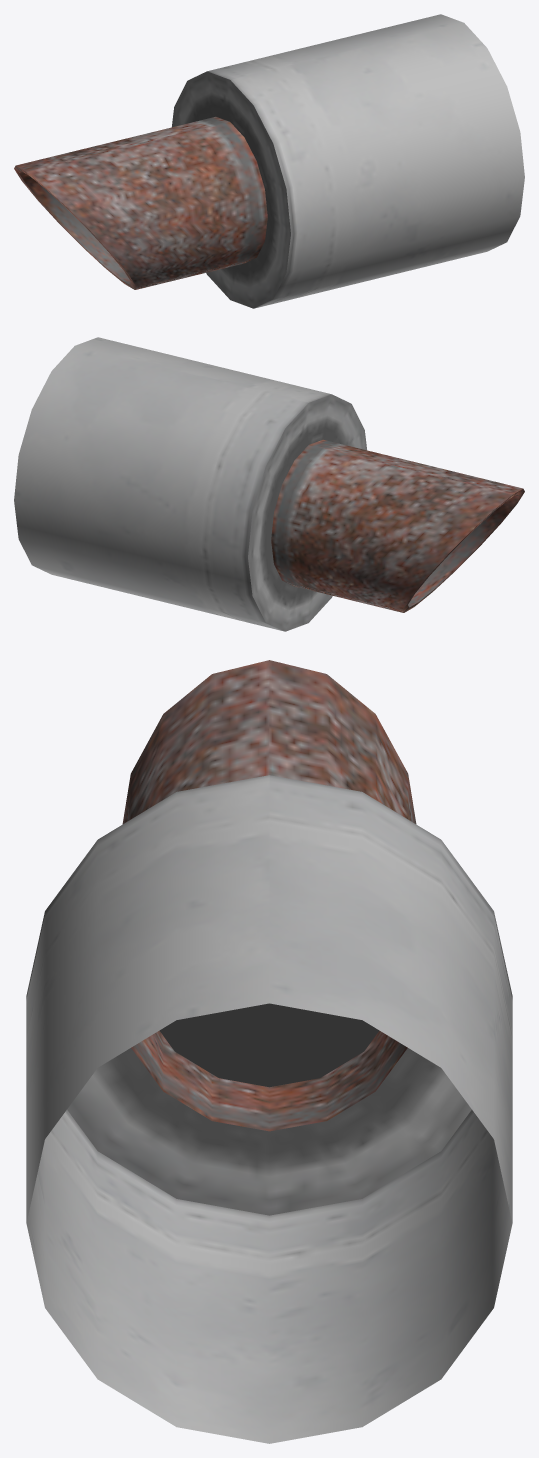
File: MB_Ventilation_06.fbx
The picture shows the model from 3 angles, top to bottom: view 1: azimuth 30°, elevation 25°; view 2: azimuth 150°, elevation 25°; view 3: azimuth 270°, elevation 25°; orthographic projection. The views are drawn at different scales.
Visible parts, largest first — view 1: MB_Ventilation_06; view 2: MB_Ventilation_06; view 3: MB_Ventilation_06.
Part boxes in pixels (left/top/right/bottom): MB_Ventilation_06: left=14, top=14, right=524, bottom=308; MB_Ventilation_06: left=14, top=337, right=524, bottom=631; MB_Ventilation_06: left=26, top=660, right=512, bottom=1443.
Size of the model in its own units: 40.44 by 19.43 by 19.43.
